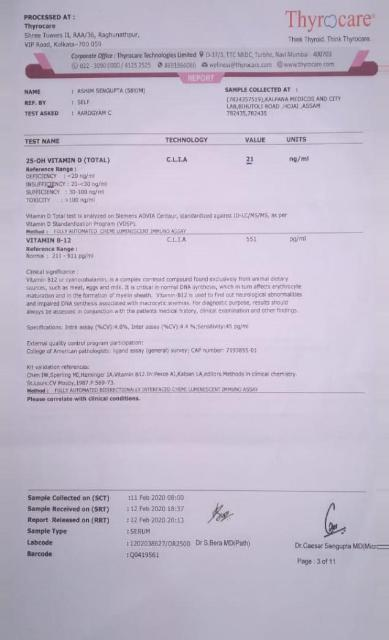Clinical_Conditions: (23, 275, 309, 319)
Name: (76, 85, 147, 95)
Ref_By: (76, 98, 92, 105)
Technology: (165, 234, 192, 248), (166, 153, 191, 167)
Test_Asked: (77, 109, 113, 118)
Test_Name: (22, 154, 115, 208), (25, 235, 98, 265)
Unit: (287, 154, 314, 166), (287, 235, 310, 246)
Value: (244, 153, 259, 169), (245, 234, 262, 247)
